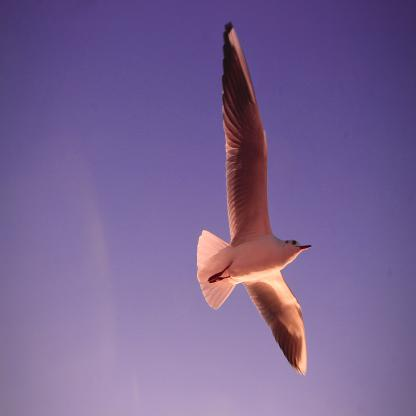bird: (196, 22, 312, 376)
